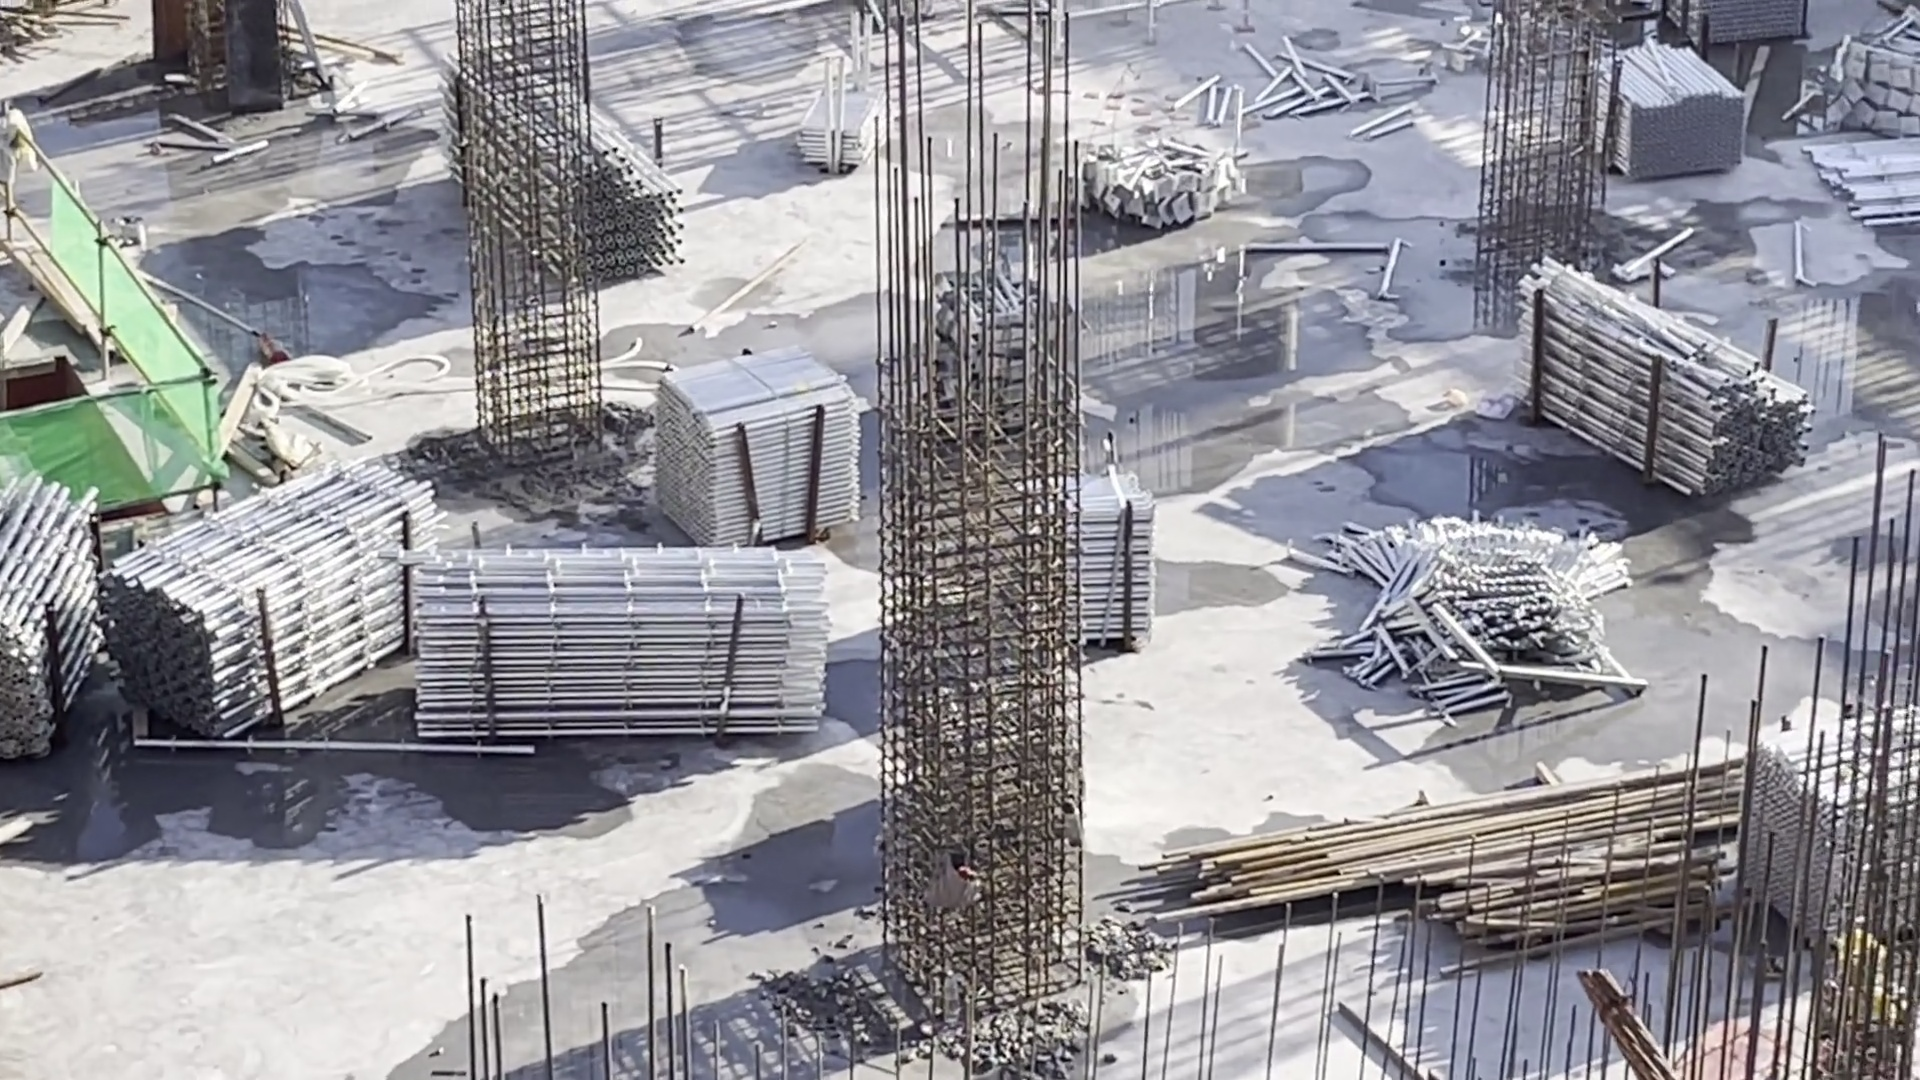scaffold: (419, 553, 827, 729), (193, 481, 425, 717), (1353, 524, 1625, 703), (444, 51, 667, 268), (1520, 284, 1745, 483), (1741, 745, 1920, 935), (673, 357, 855, 538), (1027, 483, 1153, 653), (1, 501, 100, 694), (1600, 69, 1731, 169), (793, 40, 877, 179), (1817, 138, 1919, 255), (1673, 1, 1800, 41)
